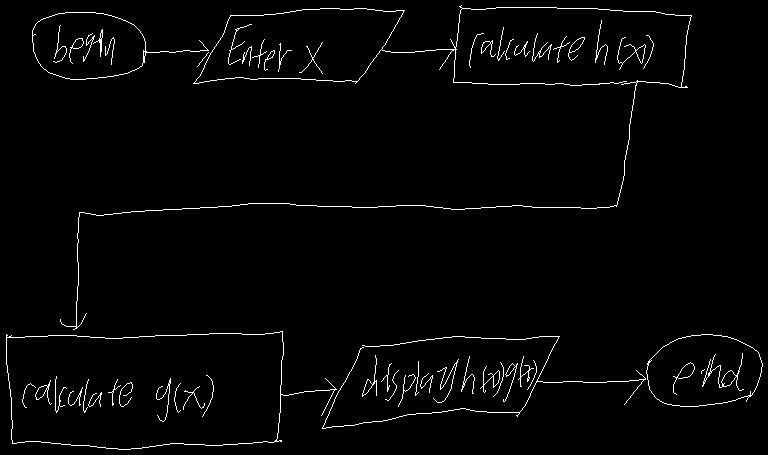arrow: (60, 80, 637, 329), (537, 370, 645, 404), (382, 39, 456, 69), (280, 378, 336, 415), (143, 40, 208, 66)
data: (322, 336, 559, 428), (193, 8, 404, 83)
process: (6, 331, 283, 449), (453, 5, 691, 87)
terminator: (646, 334, 762, 406), (32, 12, 145, 79)
text: (469, 20, 653, 69), (362, 355, 536, 406), (22, 375, 213, 421), (228, 24, 322, 73), (673, 353, 743, 394), (53, 25, 114, 64)
